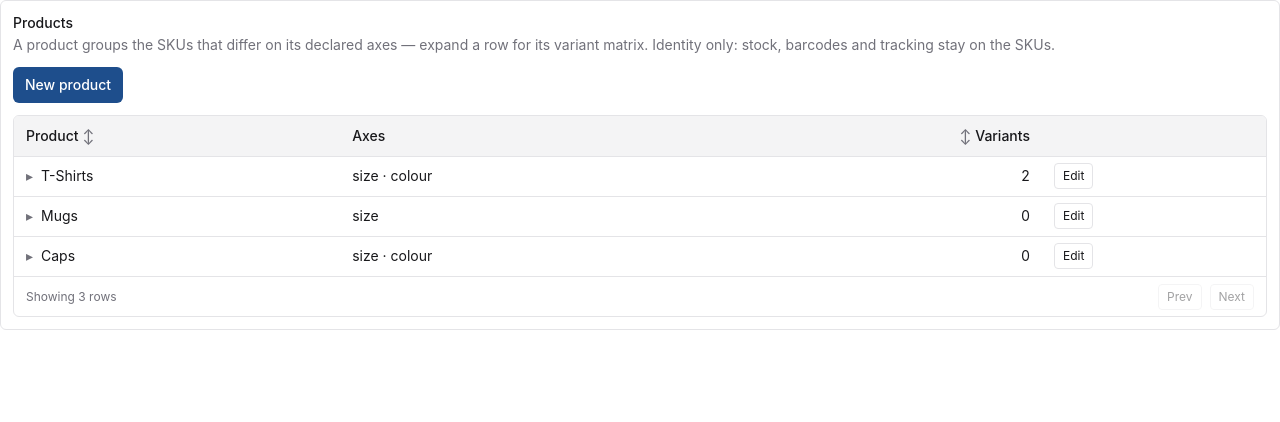
Test: ProductsCard: the variant matrix (story 11-6) › a zero-SKU catalog says so at the attach CTA, not "Every SKU already carries a variant"
Click the button "▸ Mugs" at (52, 216), box left=26, top=206, right=78, bottom=226
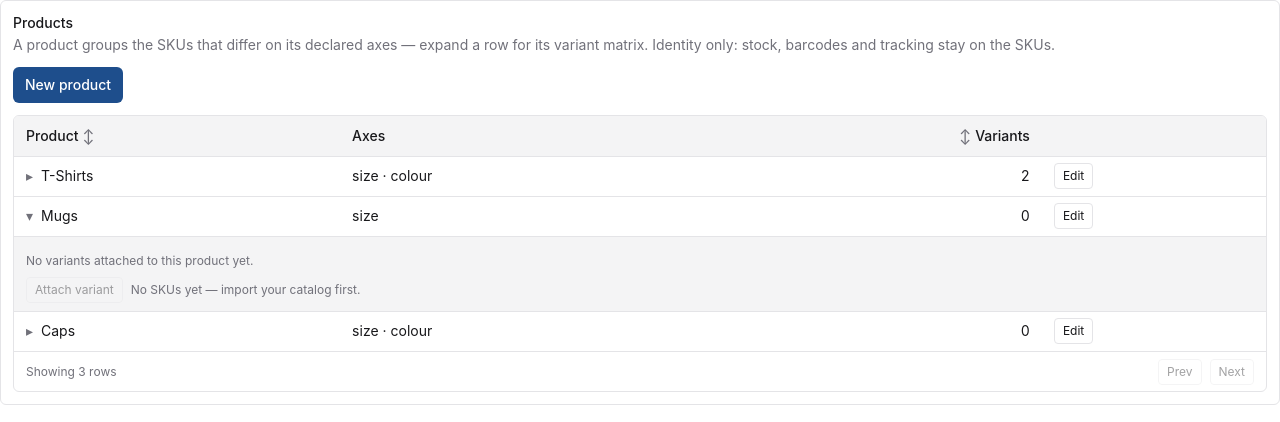
Expected: the element named "Variants for Mugs" shows "No SKUs yet", left=131, top=282, right=360, bottom=296
